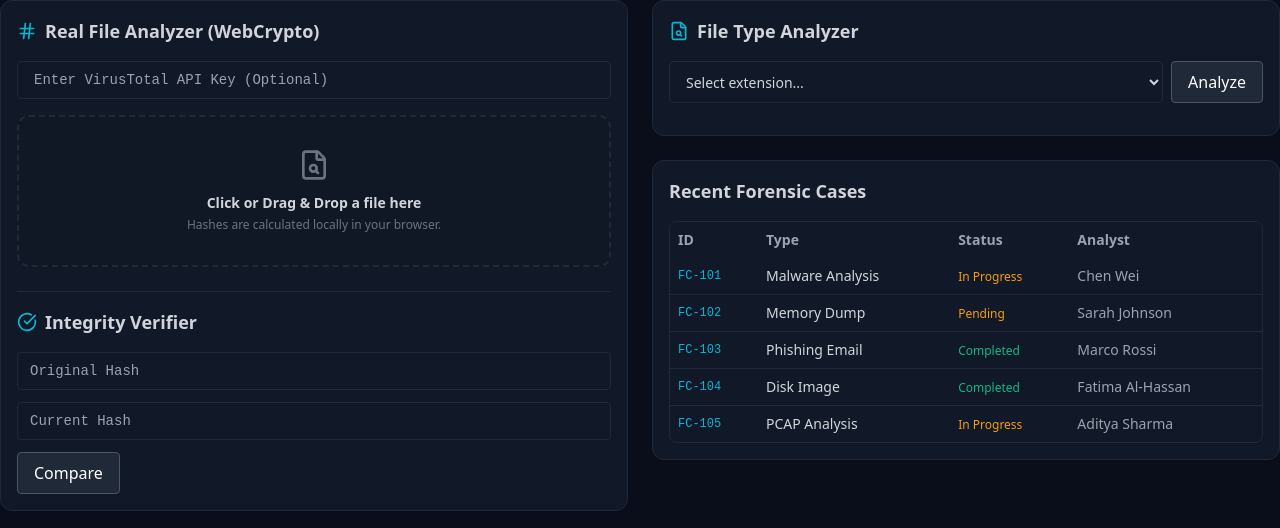
Scenario: ForensicsWorkbench Component › should display matching integrity indicator on equal compare hashes
The width and height of the screenshot is (1280, 528).
In the field with placeholder "Original Hash": (314, 371) [17, 352, 611, 390], type "abc"
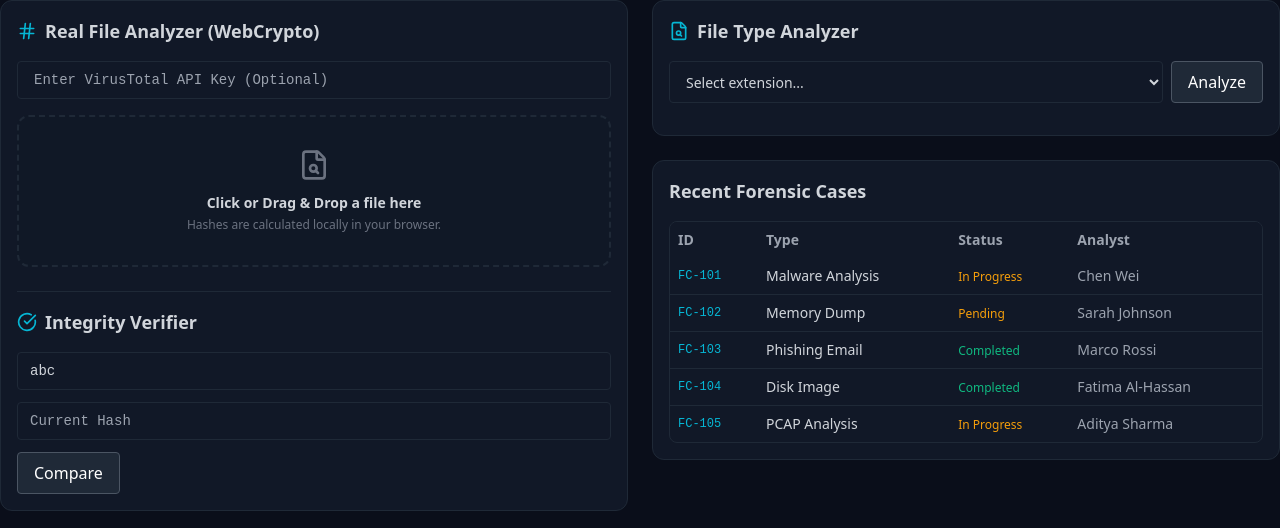
In the field with placeholder "Current Hash": (314, 421) [17, 402, 611, 440], type "abc"
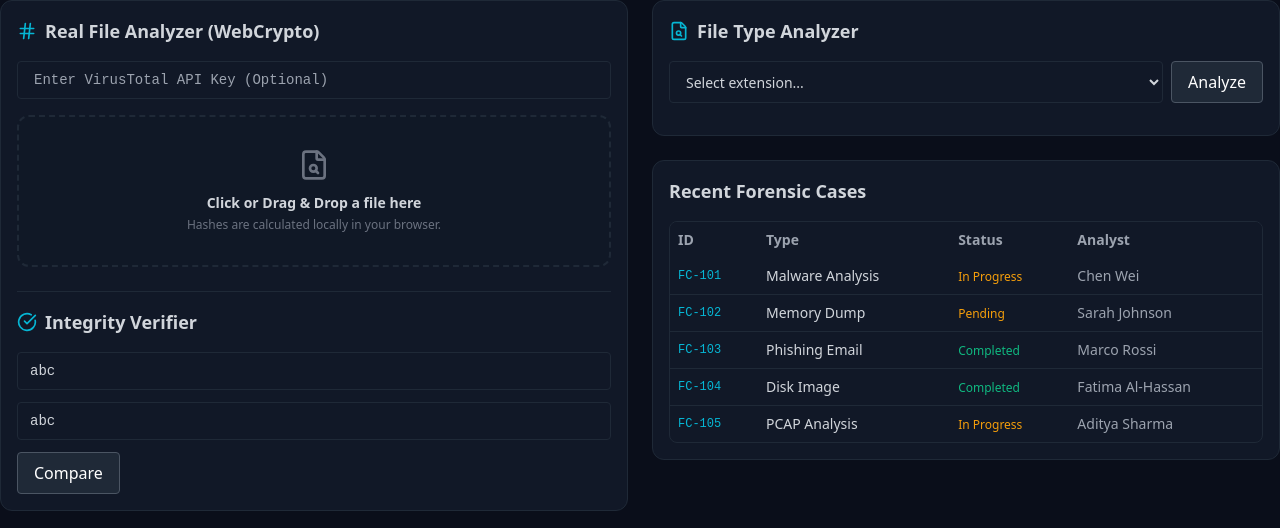
Click the button "Compare": (68, 473) [17, 452, 120, 494]
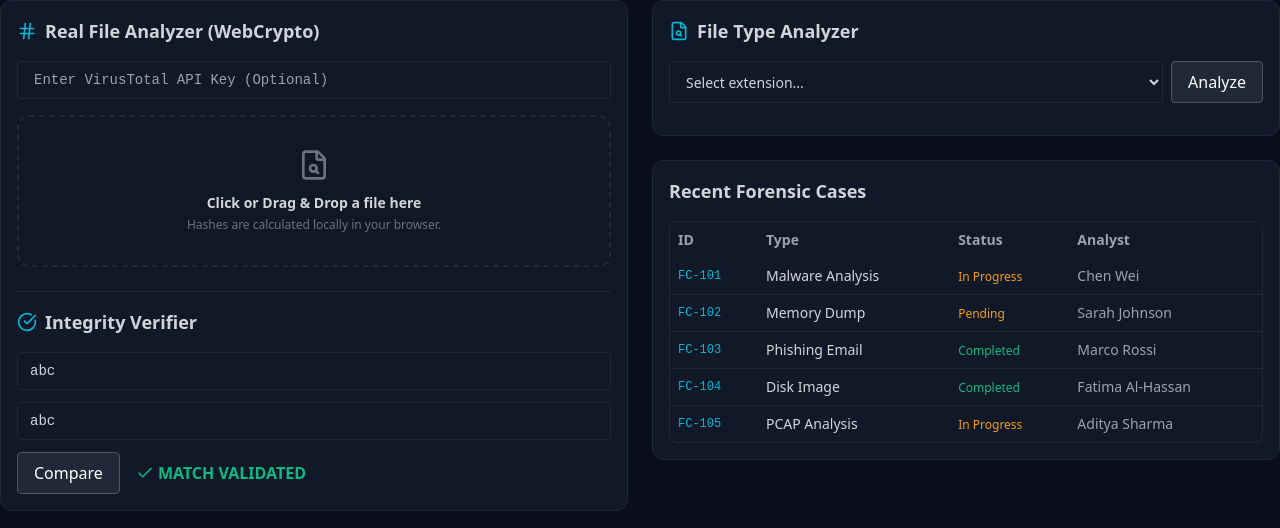
Expected: the text "MATCH VALIDATED" is shown, [136, 461, 306, 485]
